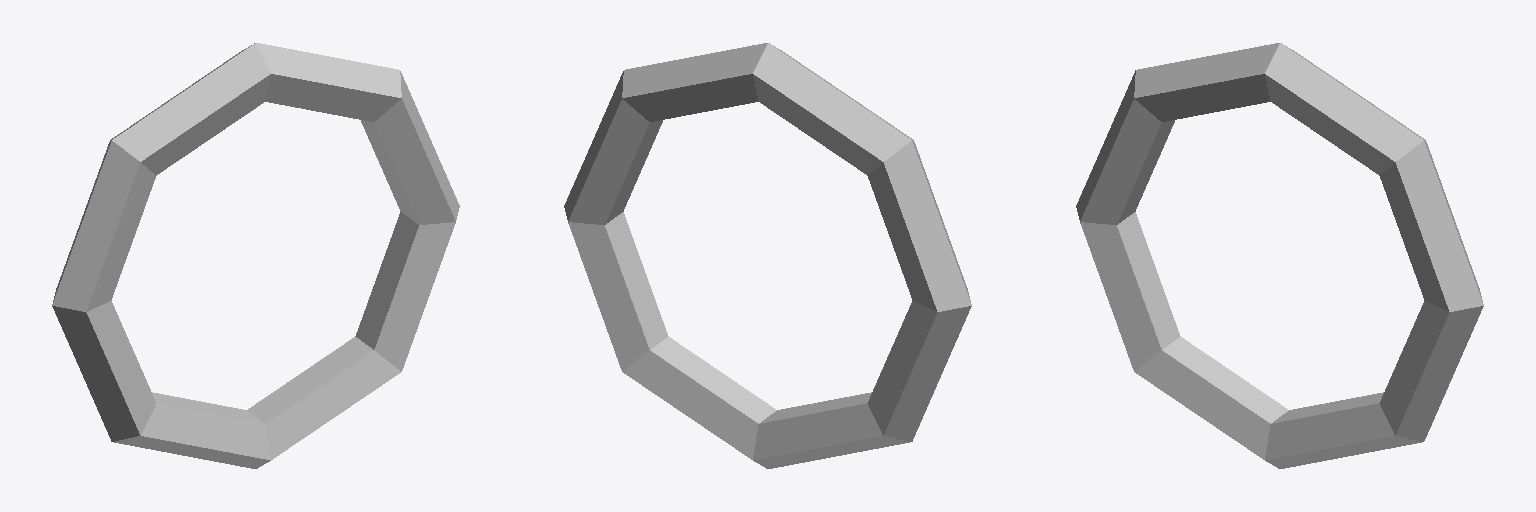
The model's file is disk.obj.
3 renders of one model, left to right at view 1: azimuth 30°, elevation 25°; view 2: azimuth 150°, elevation 25°; view 3: azimuth 330°, elevation 25°, orthographic.
Parts seen in each view (by area): view 1: Torus; view 2: Torus; view 3: Torus.
Part boxes in pixels (x1,y1,x2,y2): Torus: (52,43,459,468); Torus: (564,43,971,468); Torus: (1076,43,1483,468).
Size of the model in its own units: 2.8 by 2.8 by 0.3614.